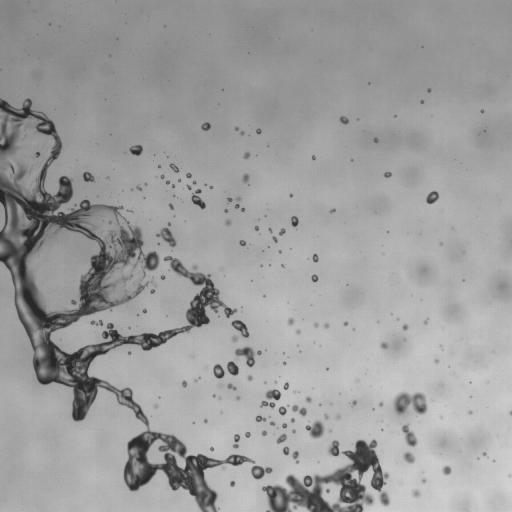droplet: (393, 391, 427, 415), (227, 346, 255, 375), (156, 227, 176, 247), (260, 389, 281, 408), (305, 420, 324, 438), (231, 320, 249, 338), (191, 189, 205, 209), (213, 364, 224, 378), (426, 191, 438, 203), (129, 145, 142, 155), (403, 452, 414, 463), (83, 172, 94, 181), (276, 434, 286, 443), (442, 465, 451, 475), (291, 451, 298, 463), (278, 406, 287, 415), (291, 216, 298, 227), (201, 122, 210, 130), (170, 164, 179, 172), (340, 116, 348, 124), (242, 174, 249, 183), (256, 415, 266, 421), (311, 274, 318, 282), (287, 317, 294, 325), (412, 490, 420, 497), (227, 383, 236, 389), (283, 446, 289, 455), (380, 342, 387, 349), (312, 254, 318, 262), (243, 152, 249, 159), (279, 228, 285, 235), (232, 335, 238, 342), (283, 382, 288, 390), (34, 151, 40, 157), (225, 219, 231, 225), (239, 240, 245, 246), (305, 396, 311, 402), (384, 172, 391, 177), (182, 380, 187, 387), (272, 236, 277, 242), (402, 324, 407, 330), (246, 375, 252, 380), (351, 400, 356, 406), (261, 430, 267, 435), (186, 173, 191, 178), (136, 185, 141, 190), (160, 274, 165, 279), (324, 323, 329, 328), (245, 432, 250, 437), (230, 481, 235, 486), (169, 203, 173, 209), (256, 129, 261, 133), (373, 138, 378, 142), (254, 225, 258, 230), (150, 288, 154, 293), (296, 329, 300, 334), (257, 350, 261, 355), (282, 423, 286, 428), (187, 185, 191, 189), (227, 197, 231, 201), (235, 204, 239, 208), (268, 228, 272, 232), (142, 309, 146, 313), (424, 319, 428, 323), (344, 321, 348, 325), (314, 323, 318, 327), (379, 402, 383, 406), (468, 410, 472, 414), (336, 415, 340, 419), (290, 418, 294, 422), (270, 421, 274, 425), (330, 209, 335, 212), (427, 89, 431, 92), (234, 127, 238, 130), (240, 131, 244, 134), (166, 180, 169, 184), (237, 197, 241, 200), (434, 359, 438, 362), (154, 405, 158, 408), (324, 415, 328, 418), (483, 452, 486, 456), (509, 410, 511, 415), (312, 156, 315, 159), (161, 175, 164, 178), (193, 181, 196, 184), (289, 194, 292, 197), (241, 208, 244, 211), (204, 419, 207, 422), (210, 447, 213, 450), (422, 479, 425, 482), (480, 110, 483, 112), (225, 209, 227, 212), (283, 362, 286, 364), (292, 430, 295, 432), (158, 165, 160, 167), (210, 186, 212, 188), (168, 223, 170, 225), (279, 250, 281, 252), (282, 265, 284, 267), (237, 398, 239, 400)
ligament: (0, 98, 272, 511), (264, 439, 388, 511), (401, 424, 417, 446), (292, 404, 306, 416), (233, 434, 239, 448), (91, 320, 102, 325)
